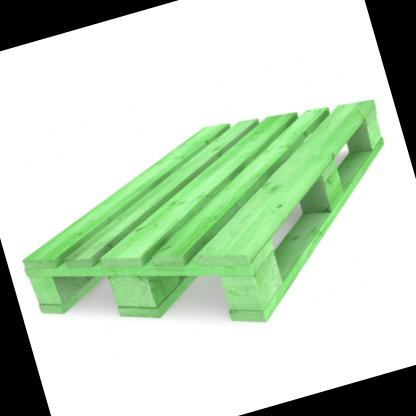BoxFace: (18, 96, 386, 324)
